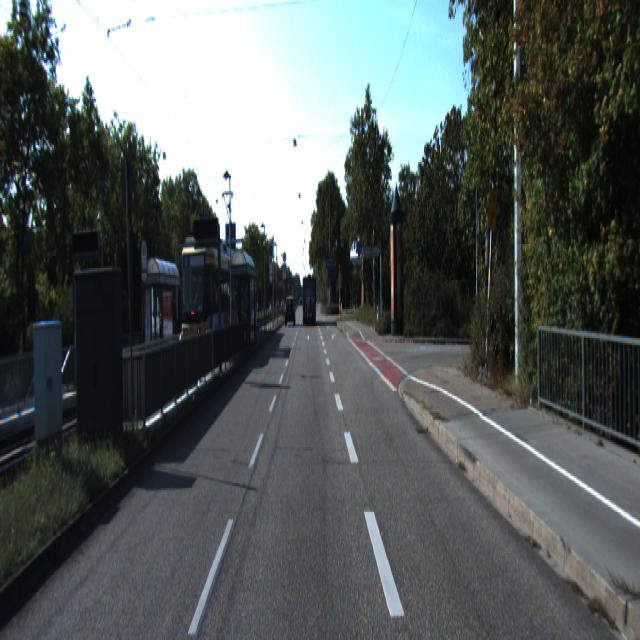Car: (174, 236, 247, 368), (302, 274, 317, 325), (285, 297, 295, 326)
